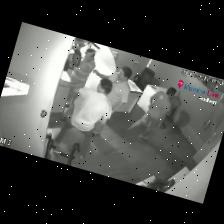person: (66, 79, 112, 159), (129, 88, 176, 140), (94, 66, 132, 113), (71, 49, 96, 86)
